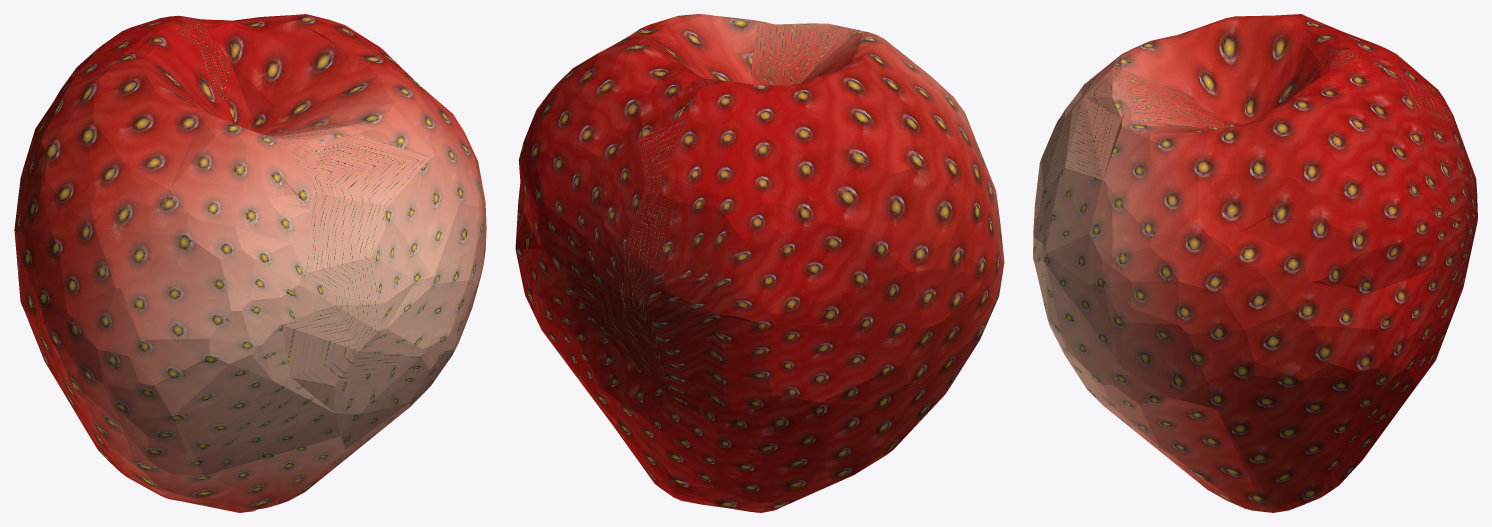
3 renders of one model, left to right at view 1: azimuth 30°, elevation 25°; view 2: azimuth 150°, elevation 25°; view 3: azimuth 270°, elevation 25°, orthographic. The views are drawn at different scales.
Parts seen in each view (by area): view 1: _000_Meshed; view 2: _000_Meshed; view 3: _000_Meshed.
Boxes of the visible parts, x1=… form: _000_Meshed: x1=14, y1=14, x2=486, y2=512; _000_Meshed: x1=515, y1=14, x2=1004, y2=512; _000_Meshed: x1=1033, y1=14, x2=1477, y2=512.
Bounding box in the file's own units: 0.1127 × 0.1062 × 0.1159.
1 material, 1 textured.
